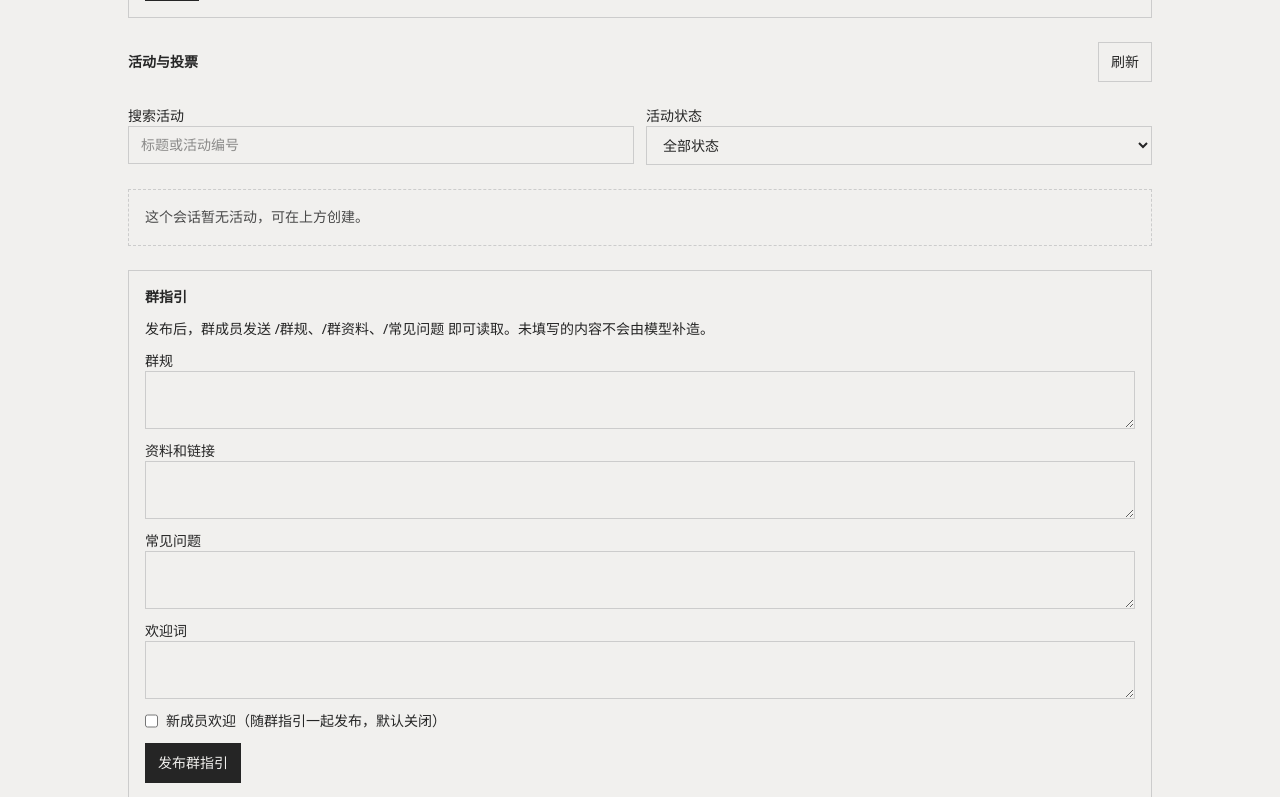
Scenario: 写完之后重读没成 › 群指引发布后重读没成，照样说已发布，另说重读没成
(page scrolled)
Step 1. Type "友善交流" into the text box labelled "群规" → (640, 400), box [145,371,1135,429]
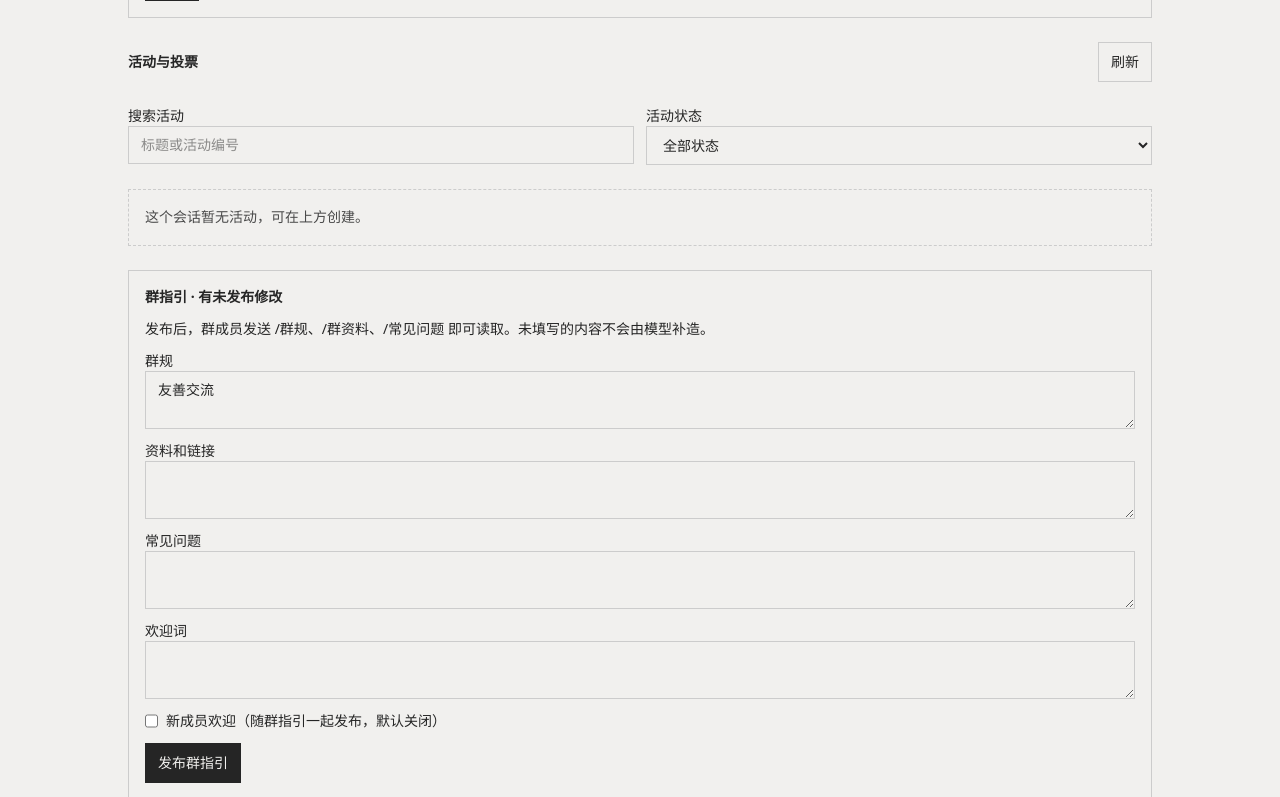
Step 2. Click the button "发布群指引" → (193, 763), box [145,743,241,783]
(page scrolled)
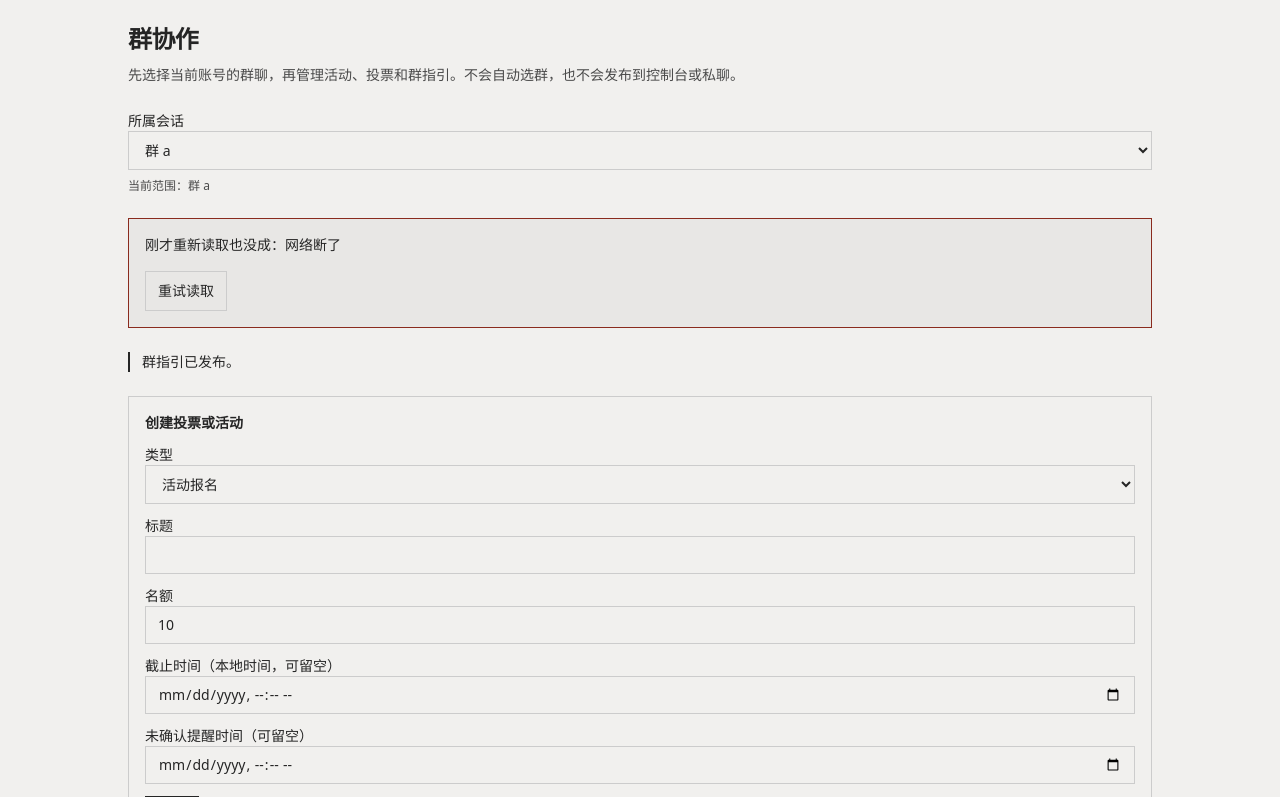
Now the text "群指引已发布。" is shown, box [128,352,1152,372]
Now the message "刚才重新读取也没成：网络断了 重试读取" is shown, box [128,218,1152,328]
